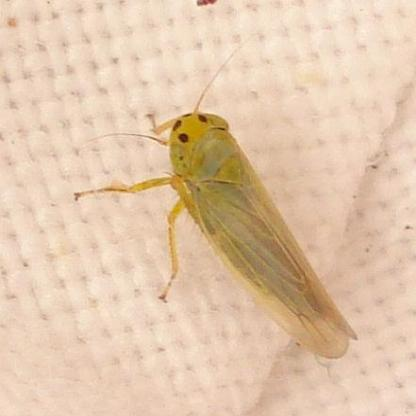green-leafhopper: (169, 112, 358, 360)
